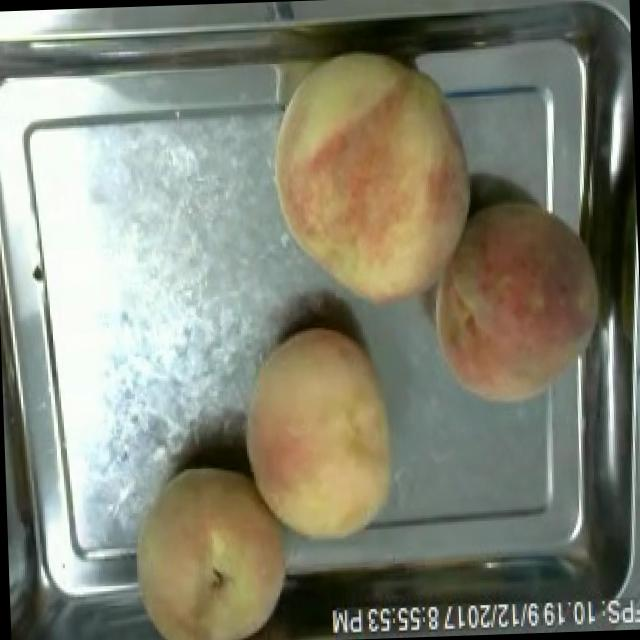Fruit: (256, 38, 486, 324), (416, 190, 616, 418), (230, 317, 410, 556), (119, 455, 299, 640)
